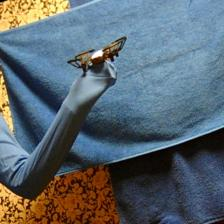drone: (66, 36, 130, 74)
